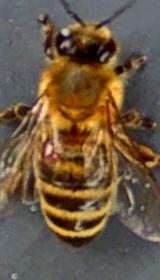varroa_mite: (39, 128, 66, 166)
